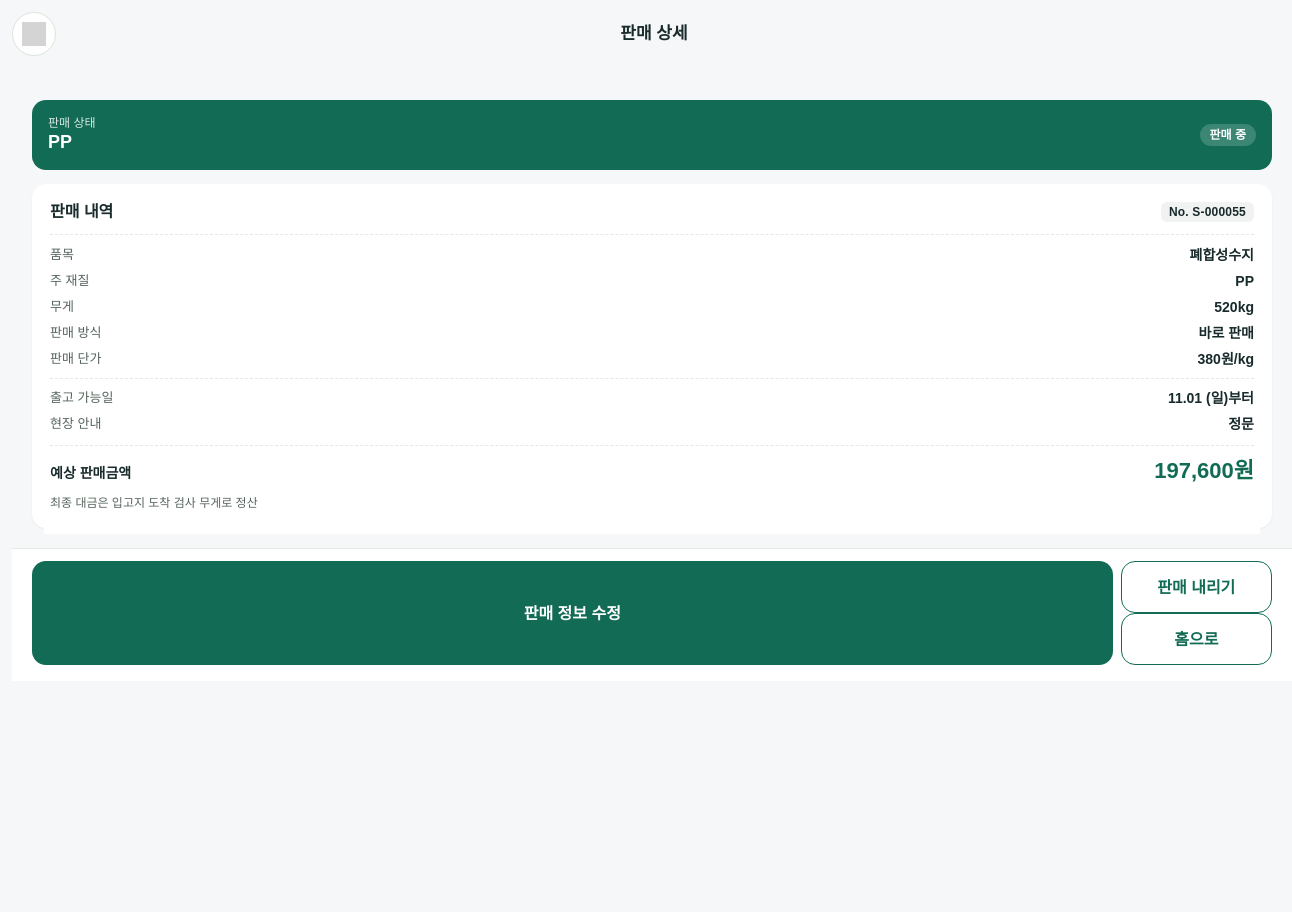
Test: 2 판매 정보 기존값 로드 및 PATCH 저장
Expected: the text "판매 내역" is shown, [50,202,113,221]
Click the button "판매 정보 수정": (572, 613) [32,561,1113,665]
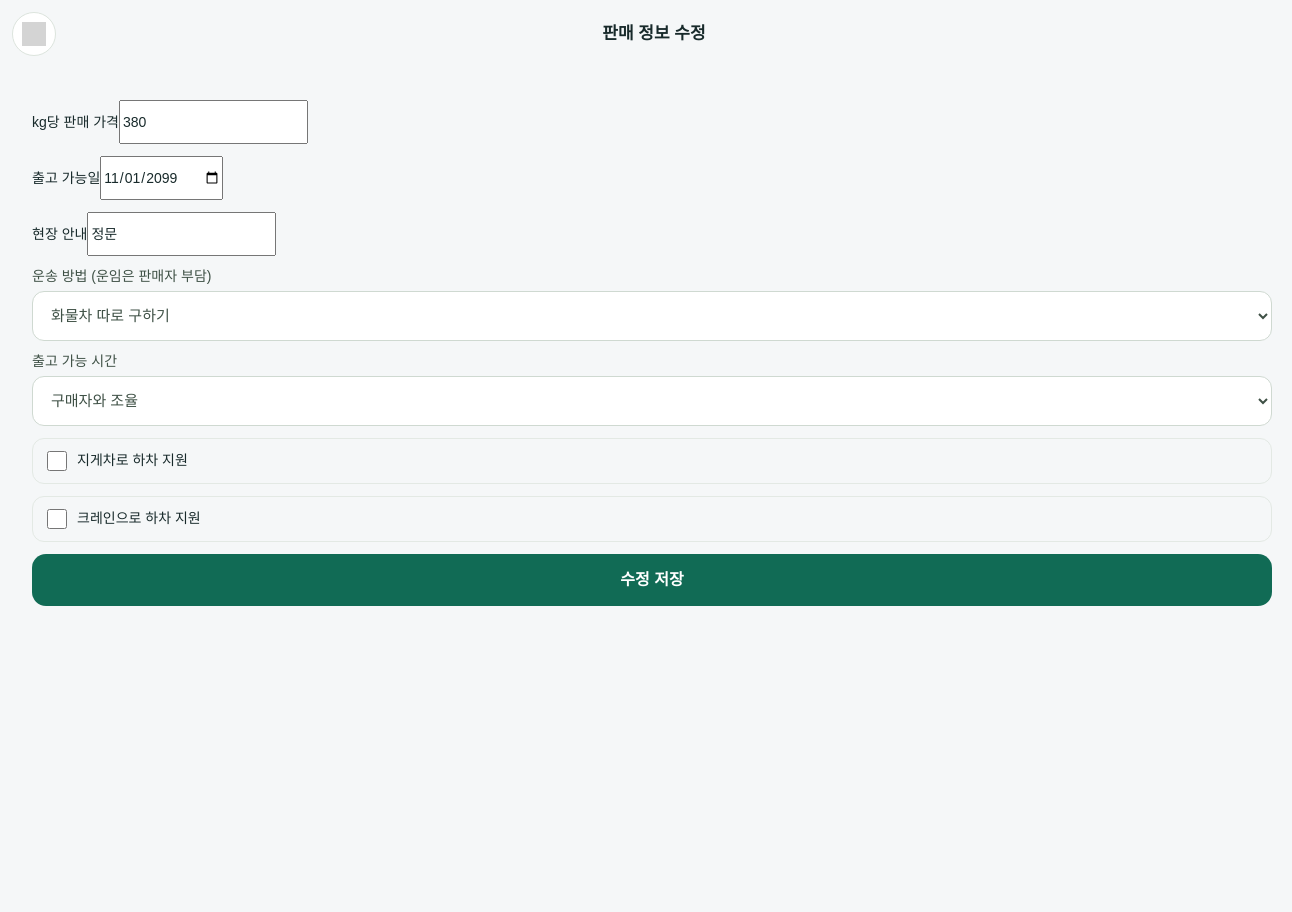
Now the field labelled "현장 안내" holds "정문", box [87,212,276,256]
Replace the text in the field labelled "kg당 판매 가격" with "420": (214, 122) [119,100,308,144]
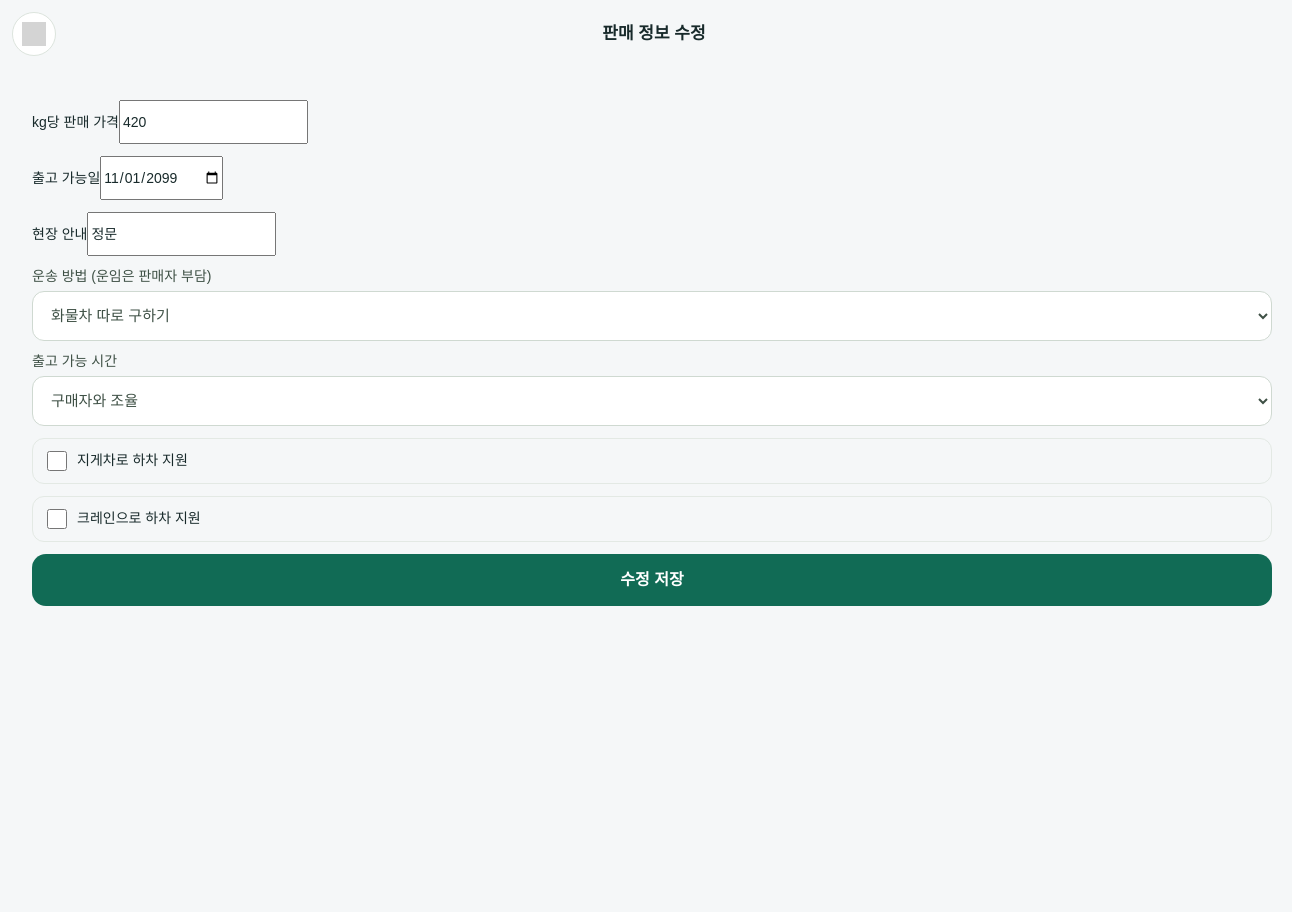
Replace the text in the field labelled "현장 안내" with "후문": (182, 234) [87,212,276,256]
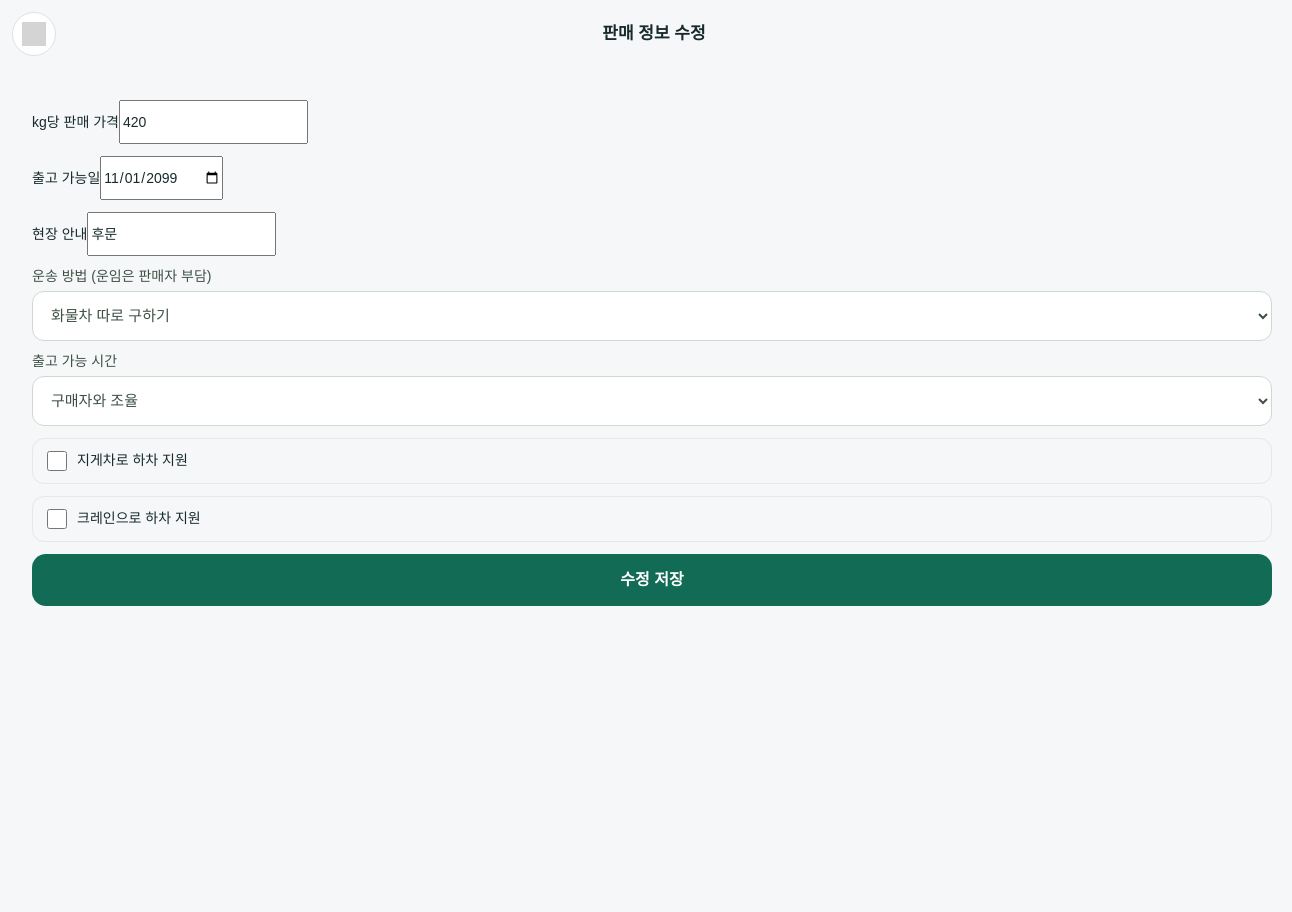
Click the button "수정 저장": (652, 580) [32,554,1272,606]
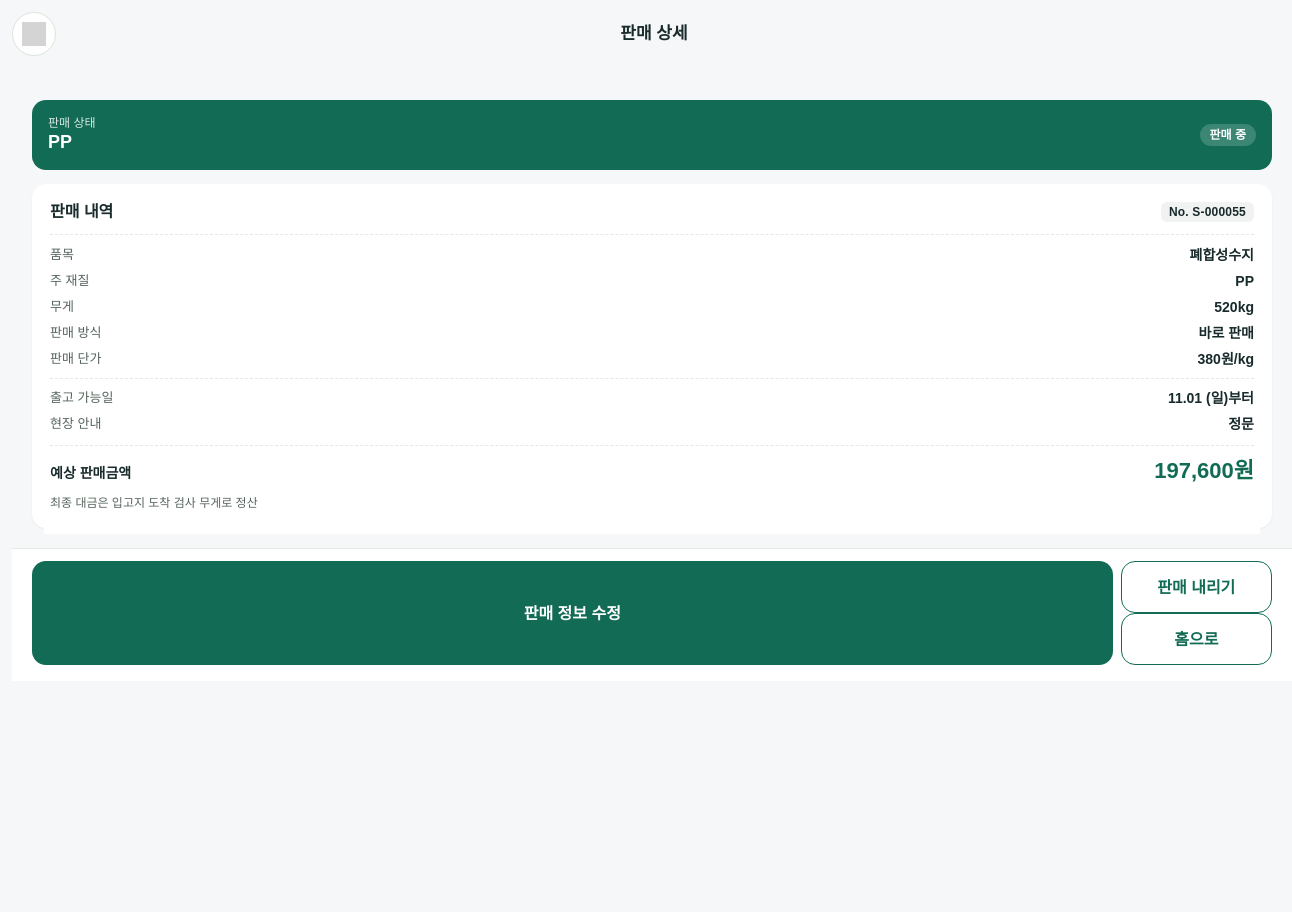
Now the text "판매 내역" is shown, box [50,202,113,221]
Now the button "수정 저장" is gone
